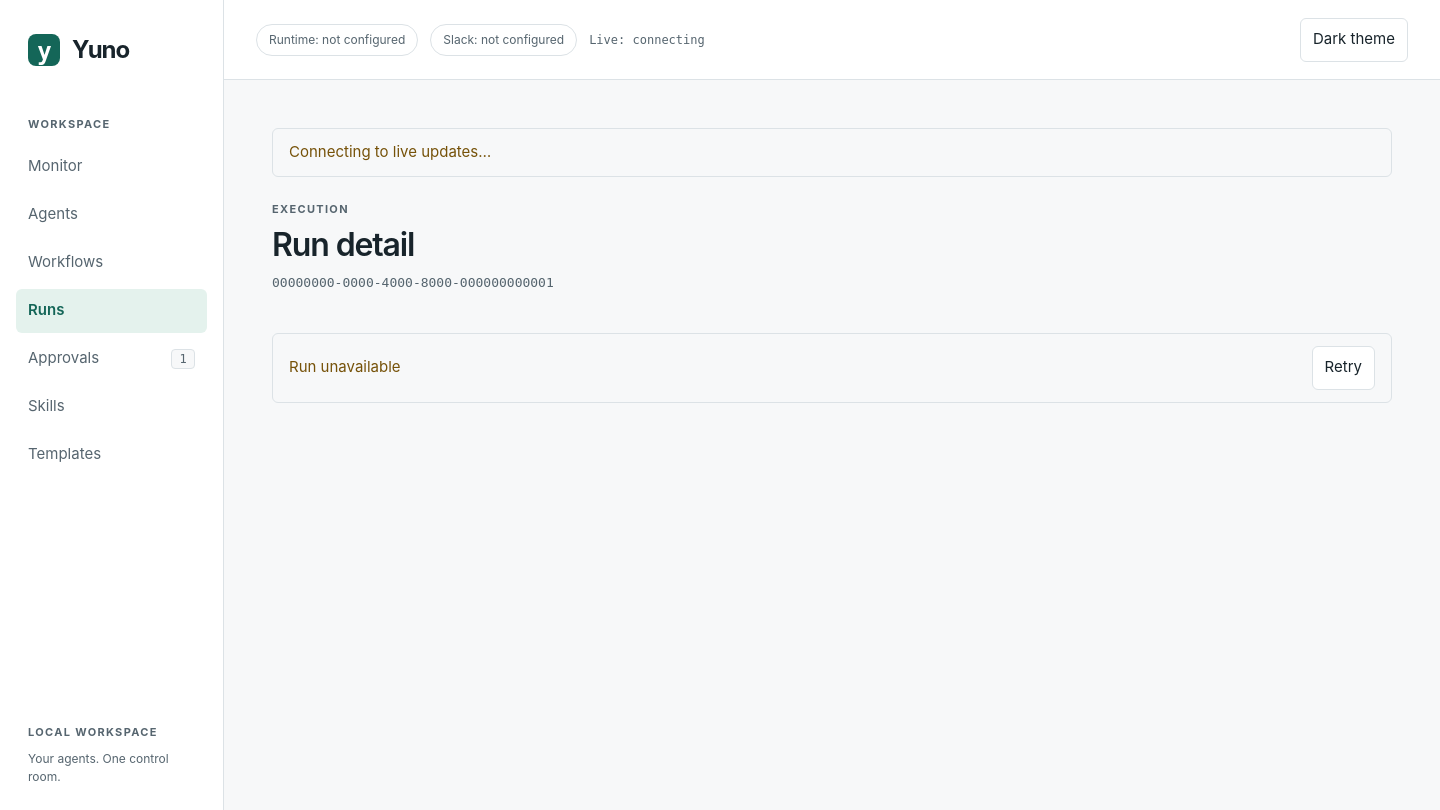
Test case: T18 monitoring (R-06, R-16, R-20 through R-25) › R-24 run detail displays failed reads and lets the user retry
The image size is (1440, 810).
Check: the text "Run unavailable" is shown, box [289,356,401,379]
Click the button "Retry": (1343, 368) [1312,346,1375,390]
(page scrolled)
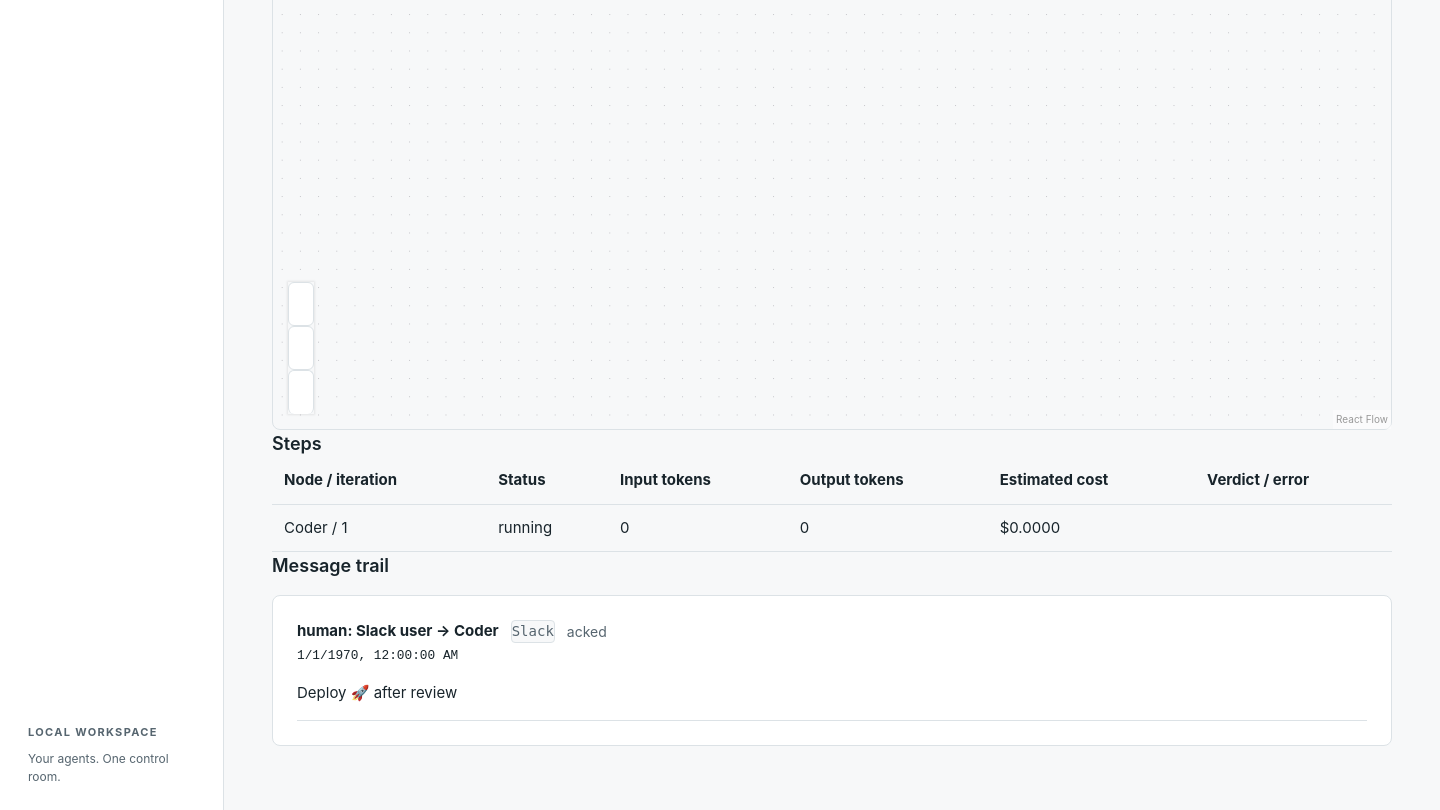
Check: the text "Deploy 🚀 after review" is shown, box [297,666,1367,721]
